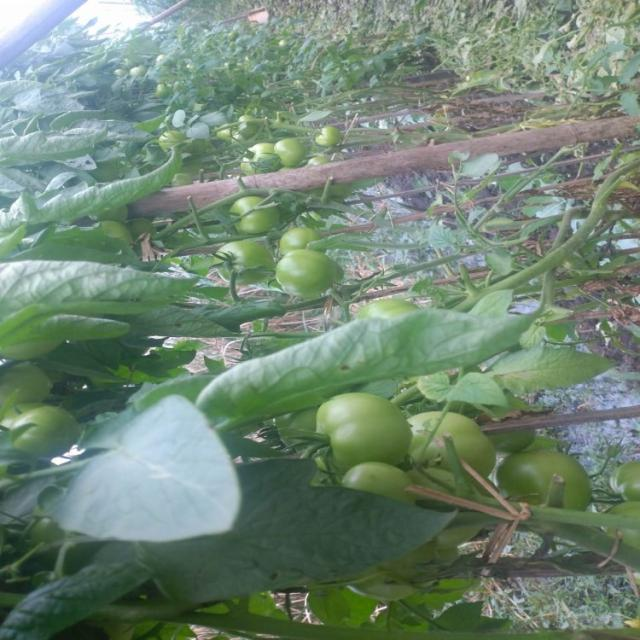tomato: (313, 394, 405, 477), (494, 449, 597, 513), (1, 405, 99, 464), (414, 403, 492, 476), (264, 253, 361, 308), (349, 452, 428, 513), (1, 357, 64, 411), (359, 292, 418, 333), (214, 230, 265, 277), (233, 142, 293, 180), (305, 113, 355, 157), (237, 191, 287, 234), (278, 132, 321, 178), (153, 109, 199, 150), (274, 222, 315, 265), (223, 108, 262, 142), (619, 452, 640, 506), (126, 58, 150, 84), (149, 53, 172, 71), (150, 80, 168, 97)
